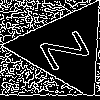Z: (39, 23, 100, 72)
